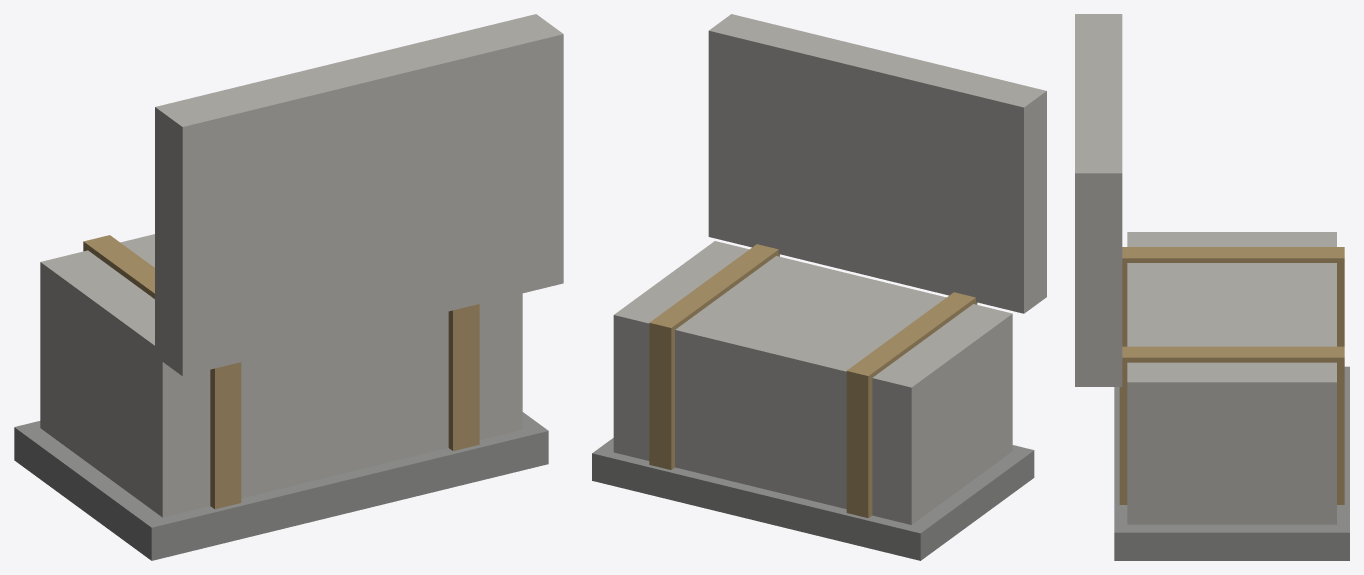
Rendered from crypt_coffer_open.glb.
3 renders of one model, left to right at view 1: azimuth 30°, elevation 25°; view 2: azimuth 150°, elevation 25°; view 3: azimuth 270°, elevation 25°, orthographic. The views are drawn at different scales.
Parts seen in each view (by area): view 1: crypt_coffer_open; view 2: crypt_coffer_open; view 3: crypt_coffer_open.
Part boxes in pixels (<box>): crypt_coffer_open: <box>14,14,563,560</box>; crypt_coffer_open: <box>592,14,1046,560</box>; crypt_coffer_open: <box>1075,14,1349,560</box>.
Size of the model in its own units: 1.5 by 1.62 by 1.05.
